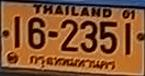letters: (26, 16, 47, 50), (99, 20, 119, 55), (60, 18, 79, 53), (79, 20, 98, 54), (122, 21, 135, 57), (12, 15, 23, 50)
province: (28, 55, 116, 70)
